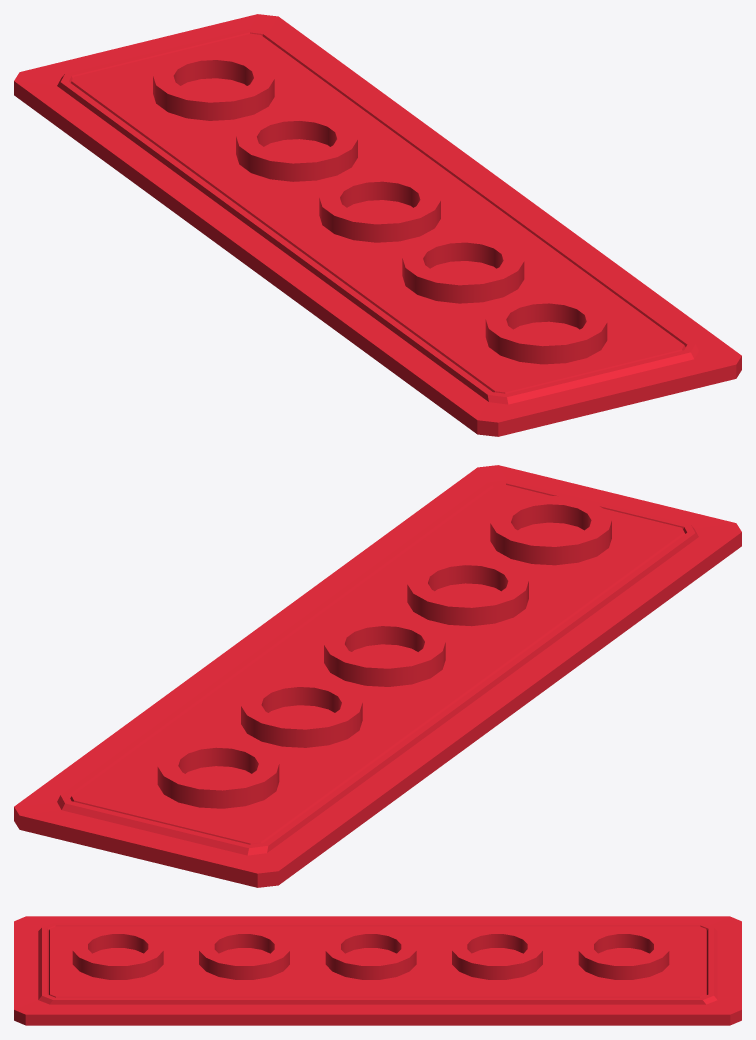
Rendered from plaque_input.fbx.
3 renders of one model, top to bottom at view 1: azimuth 30°, elevation 25°; view 2: azimuth 150°, elevation 25°; view 3: azimuth 270°, elevation 25°, orthographic. The views are drawn at different scales.
Visible parts, largest first — view 1: detail_plaque; view 2: detail_plaque; view 3: detail_plaque.
Boxes of the visible parts, left/top/right/bottom form: detail_plaque: left=14, top=14, right=741, bottom=436; detail_plaque: left=14, top=465, right=741, bottom=887; detail_plaque: left=14, top=916, right=741, bottom=1025.
Bounding box in the file's own units: 5.65 × 0.7726 × 17.72.
